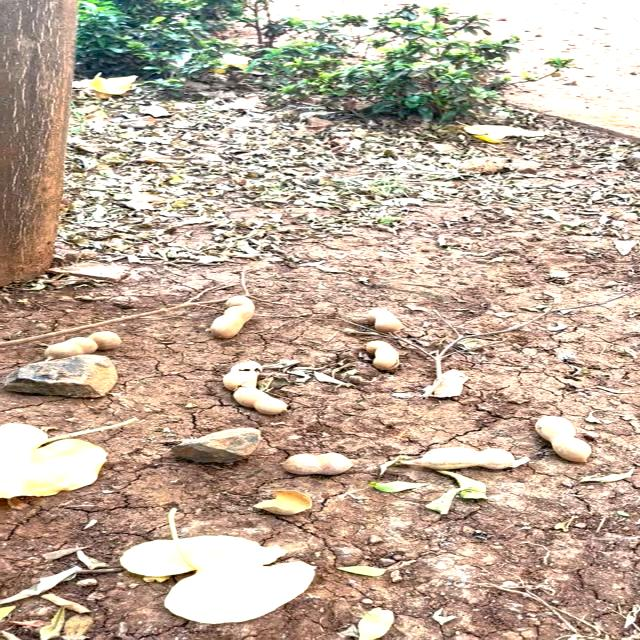tamarind: (222, 358, 290, 416), (394, 444, 534, 472), (536, 407, 602, 463), (212, 293, 260, 341), (42, 329, 124, 355), (282, 447, 354, 476), (355, 340, 406, 376), (361, 304, 415, 334)
